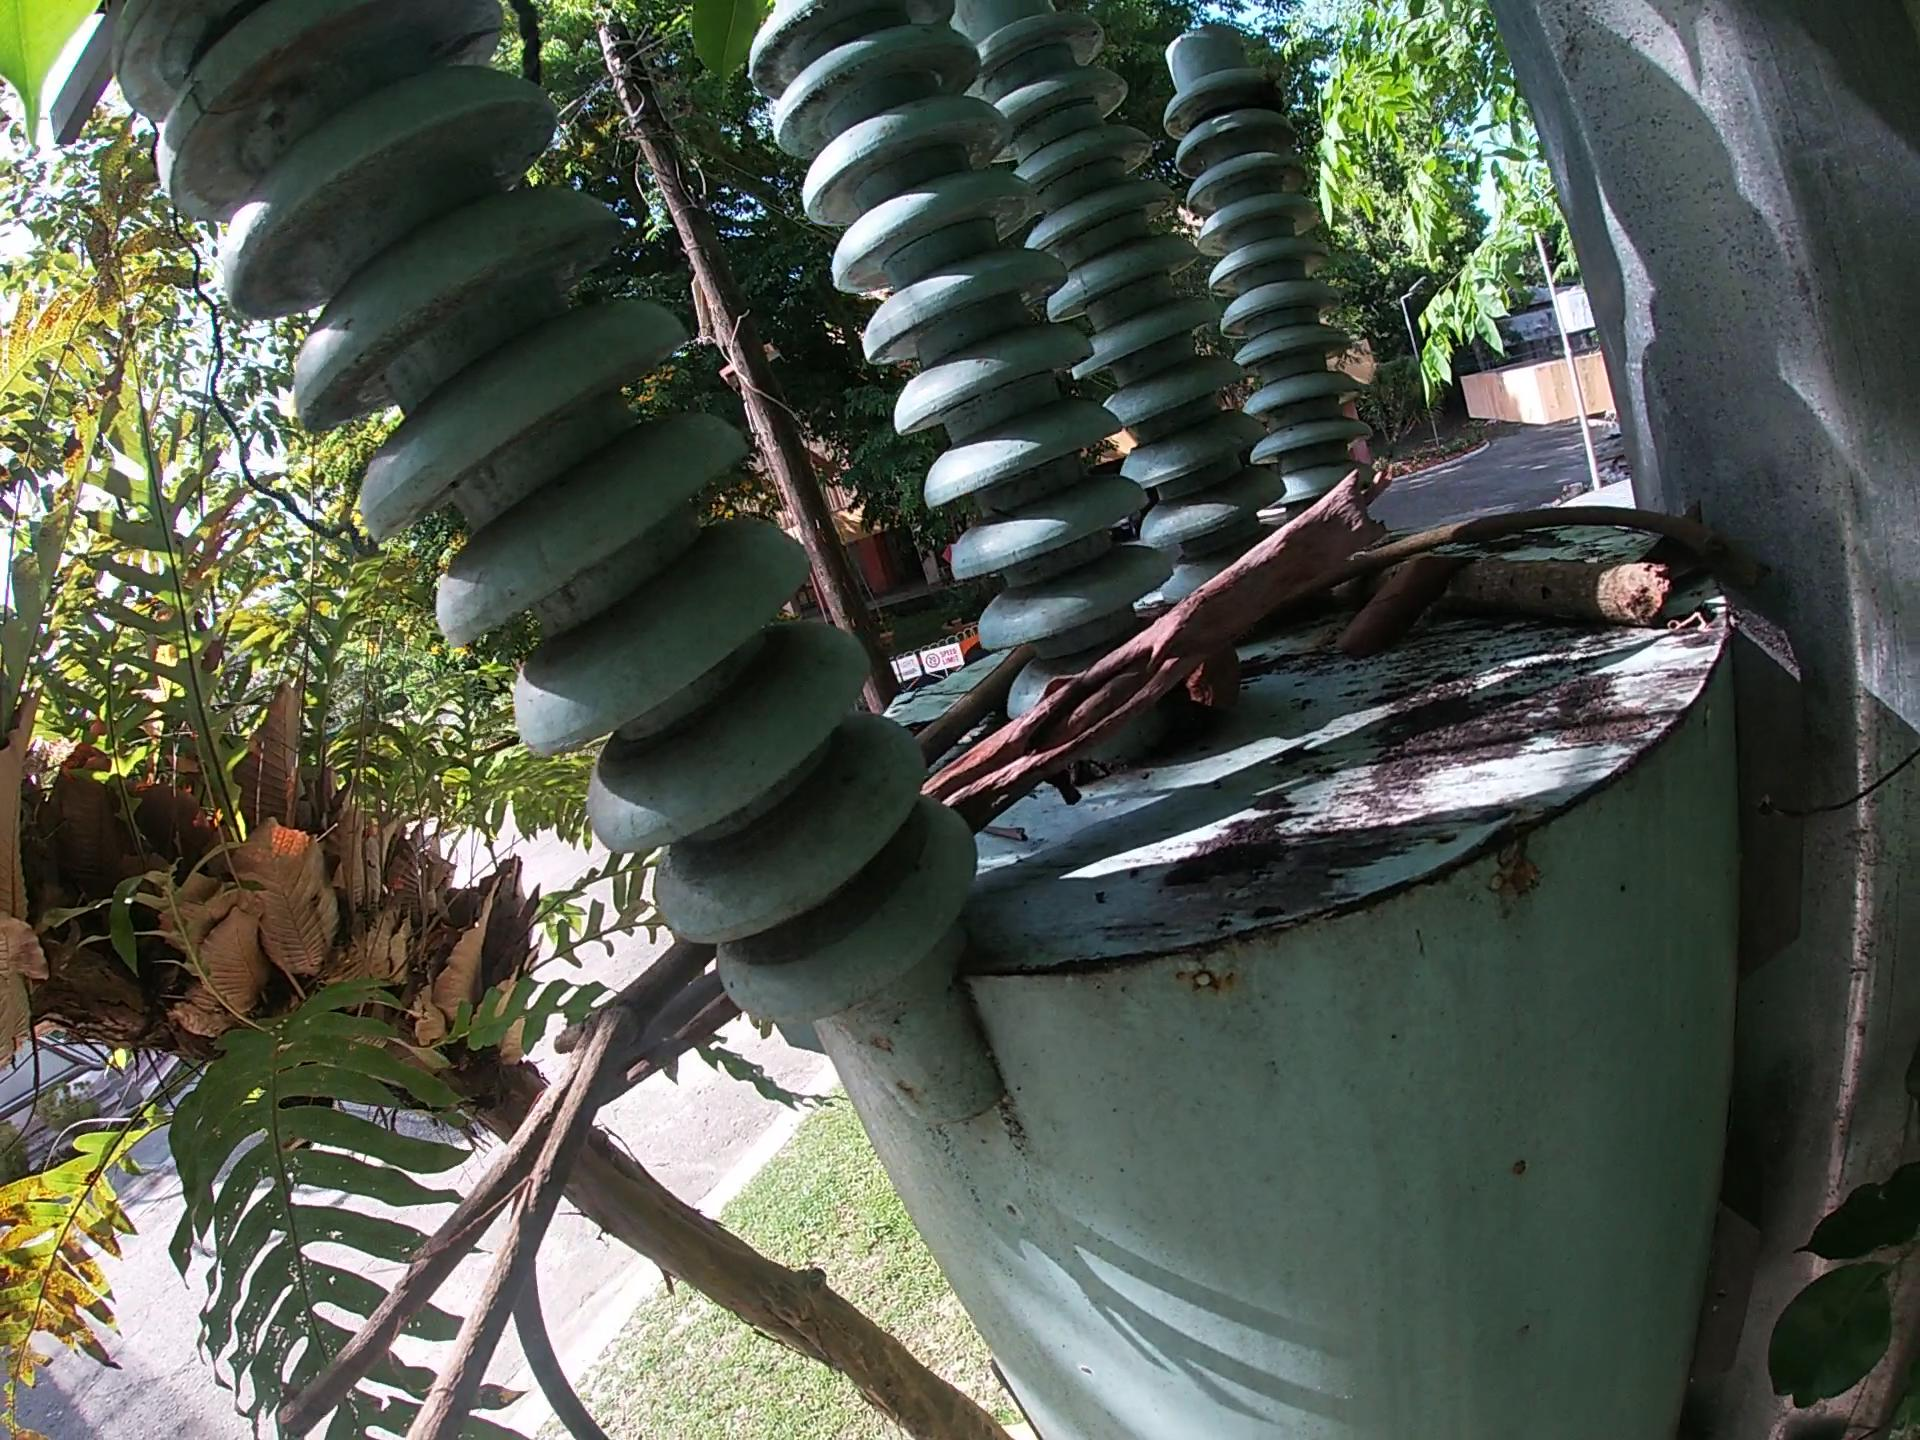leaf: (1321, 548, 1469, 656)
tree branch: (277, 935, 714, 1440), (916, 464, 1395, 839), (1324, 501, 1779, 599), (1320, 545, 1675, 631), (909, 640, 1033, 765), (605, 991, 738, 1104)
